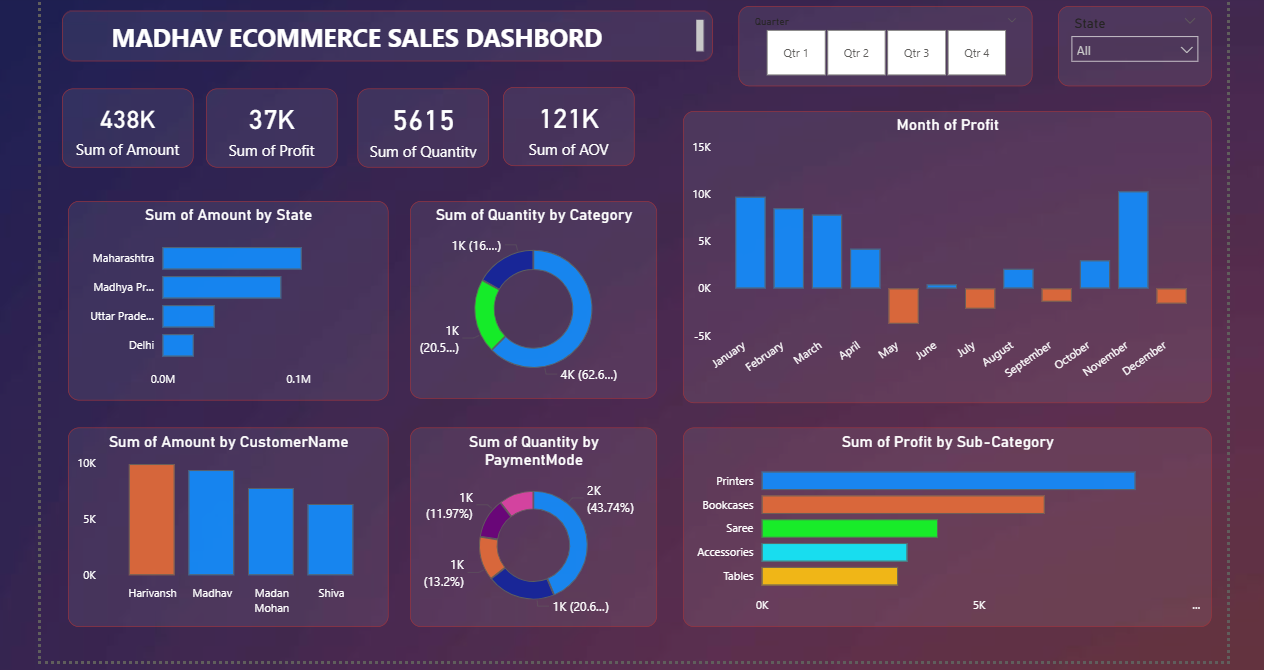

Layout of this report page (visuals, bound fields, positions):
{"tool":"powerbi","page":{"name":"Page 1","canvas":[1280,720],"ordinal":0},"visuals":[{"type":"textbox","box":[22.7,17,703,54.8],"z":0},{"type":"columnChart","title":" Month of Profit","fields":{"Category":["Orders.Order Date.Variation.Date Hierarchy.Month"],"Y":["Details.Profit"]},"box":[693.5,126.6,570.7,315.6],"z":1000},{"type":"barChart","fields":{"Category":["Details.Sub-Category"],"Y":["Details.Profit"]},"box":[693.5,468.7,570.7,215.4],"z":2000},{"type":"donutChart","fields":{"Category":["Details.Category"],"Y":["Details.Quantity"]},"box":[398.7,223,266.5,213.5],"z":3000},{"type":"donutChart","fields":{"Y":["Details.Quantity"],"Category":["Details.PaymentMode"]},"box":[398.7,468.7,266.5,215.4],"z":4000},{"type":"card","fields":{"Values":["Details.Amount"]},"box":[22.7,102,141.7,85],"z":5000},{"type":"card","fields":{"Values":["Details.Quantity"]},"box":[342,102,141.7,85],"z":6000},{"type":"card","fields":{"Values":["Details.Profit"]},"box":[177.6,102,141.7,85],"z":7000},{"type":"card","fields":{"Values":["Details.AOV"]},"box":[498.9,100.2,141.7,85],"z":8000},{"type":"barChart","fields":{"Category":["Orders.State"],"Y":["Details.Amount"]},"box":[28.3,223,345.8,215.4],"z":9000},{"type":"columnChart","fields":{"Category":["Orders.CustomerName"],"Y":["Details.Amount"]},"box":[28.3,468.7,345.8,215.4],"z":10000},{"type":"slicer","fields":{"Values":["Orders.Order Date.Variation.Date Hierarchy.Quarter"]},"box":[752.1,13.2,317.5,86.9],"z":11000},{"type":"slicer","fields":{"Values":["Orders.State"]},"box":[1098,13.2,166.3,86.9],"z":12000}]}

Visuals, with their boxes on the page's 1280x720 design canvas (x1, y1, x2, y2). These are canvas units, not pixel positions in the 1264x670 screenshot, which may show the page scaled, cropped or inside an application window:
textbox: [23,17,726,72]
" Month of Profit" columnChart: [694,127,1264,442]
barChart - Details.Sub-Category x Details.Profit: [694,469,1264,684]
donutChart - Details.Category x Details.Quantity: [399,223,665,436]
donutChart - Details.Quantity x Details.PaymentMode: [399,469,665,684]
card - Details.Amount: [23,102,164,187]
card - Details.Quantity: [342,102,484,187]
card - Details.Profit: [178,102,319,187]
card - Details.AOV: [499,100,641,185]
barChart - Orders.State x Details.Amount: [28,223,374,438]
columnChart - Orders.CustomerName x Details.Amount: [28,469,374,684]
slicer - Orders.Order Date.Variation.Date Hierarchy.Quarter: [752,13,1070,100]
slicer - Orders.State: [1098,13,1264,100]
